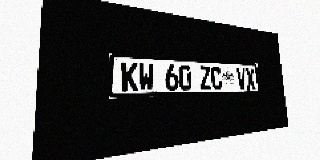0: (178, 65, 192, 90)
6: (165, 64, 179, 91)
C: (210, 66, 222, 90)
K: (121, 62, 138, 91)
V: (236, 68, 247, 89)
W: (138, 63, 154, 91)
X: (245, 68, 256, 89)
Z: (199, 66, 212, 90)
